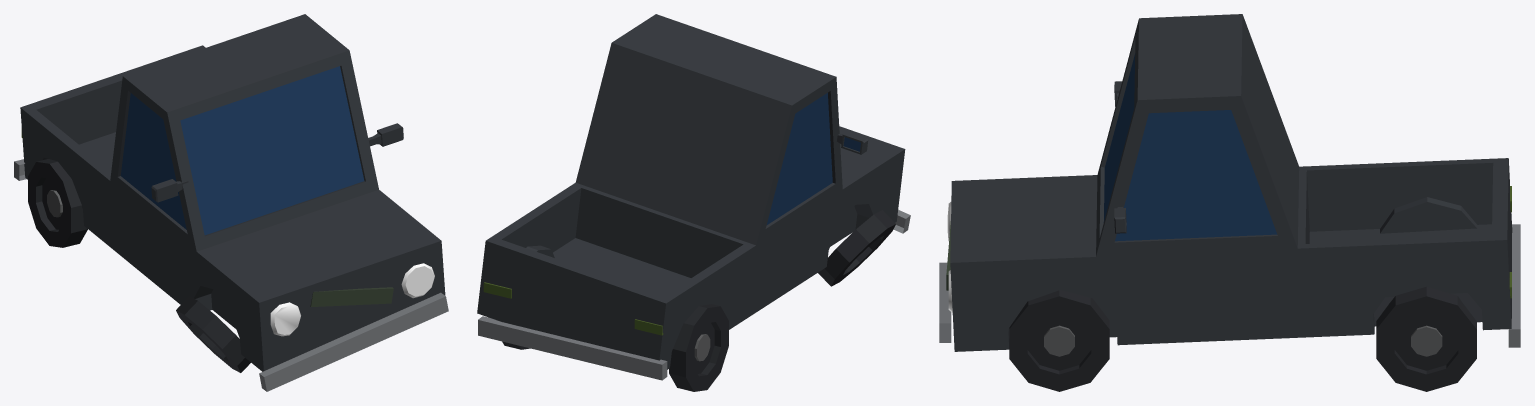
File: Crashed Car_1.fbx
3 views of the same model, side by side, from view 1: azimuth 30°, elevation 25°; view 2: azimuth 150°, elevation 25°; view 3: azimuth 270°, elevation 25° (orthographic). The views are drawn at different scales.
Visible parts, largest first — view 1: Crashed Car_1; view 2: Crashed Car_1; view 3: Crashed Car_1.
Part boxes in pixels (x1,y1,x2,y2): Crashed Car_1: (14, 14, 448, 391); Crashed Car_1: (477, 14, 910, 391); Crashed Car_1: (939, 14, 1520, 391).
Size of the model in its own units: 262 by 262 by 456.
